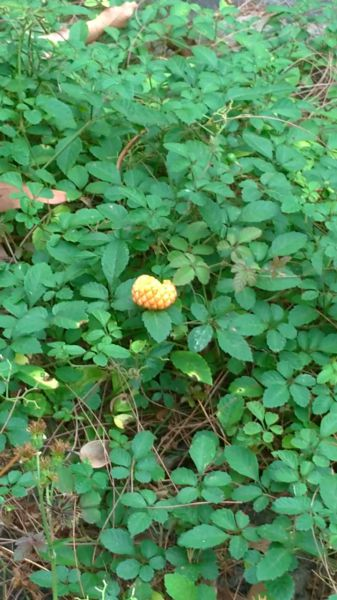eggs: (126, 266, 180, 314)
